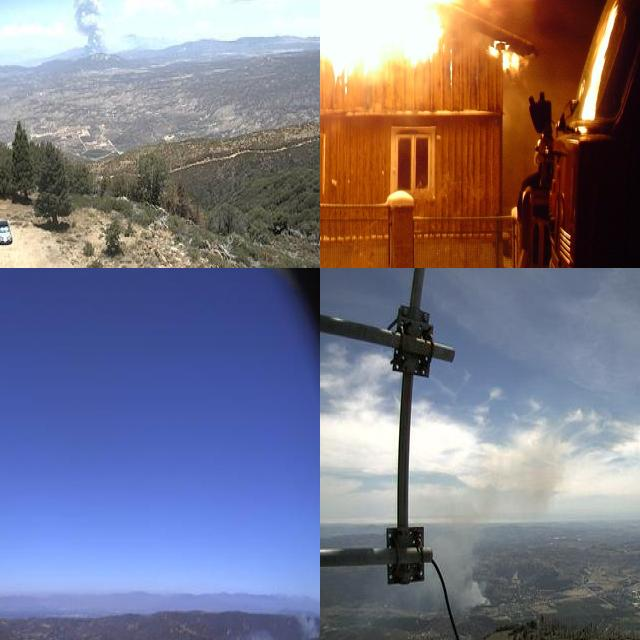fire: (320, 0, 542, 104)
smoke: (429, 454, 554, 608), (236, 602, 320, 640), (68, 0, 113, 62)
